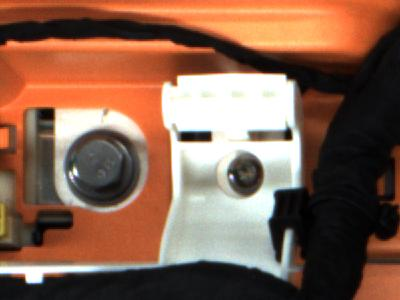nut_b: (56, 128, 146, 207)
